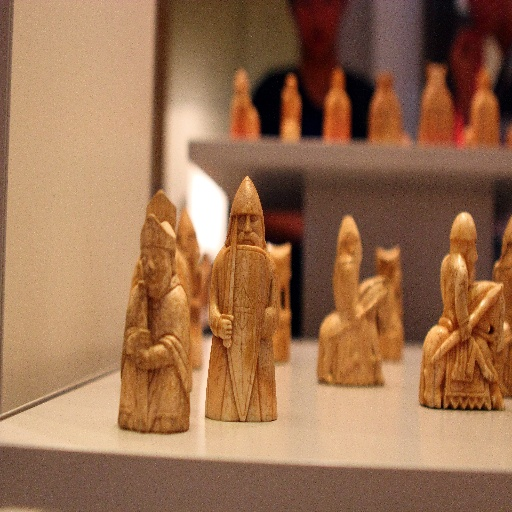hand: (134, 326, 152, 350), (218, 310, 232, 340), (133, 349, 148, 374), (458, 321, 473, 342), (352, 313, 361, 327)
